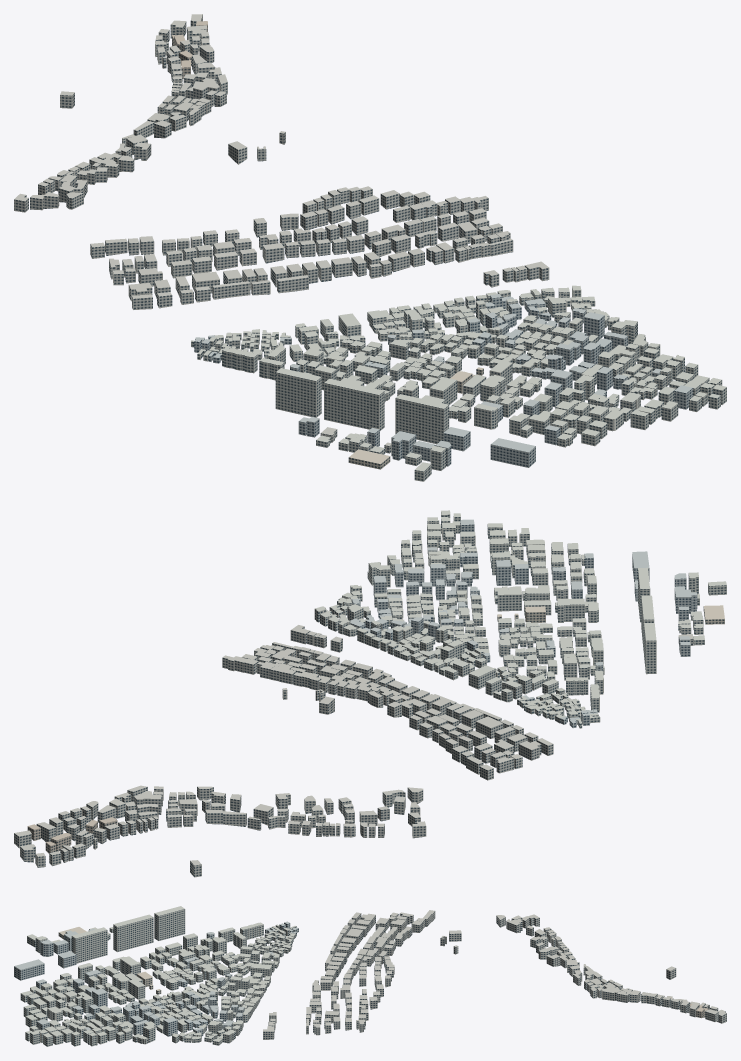
The model's file is city_-9_-3.glb.
3 renders of one model, top to bottom at view 1: azimuth 30°, elevation 25°; view 2: azimuth 150°, elevation 25°; view 3: azimuth 270°, elevation 25°, orthographic. The views are drawn at different scales.
Bounding box in the file's own units: 414 × 88.72 × 1023.
Materials: 5 (5 with a texture image).
